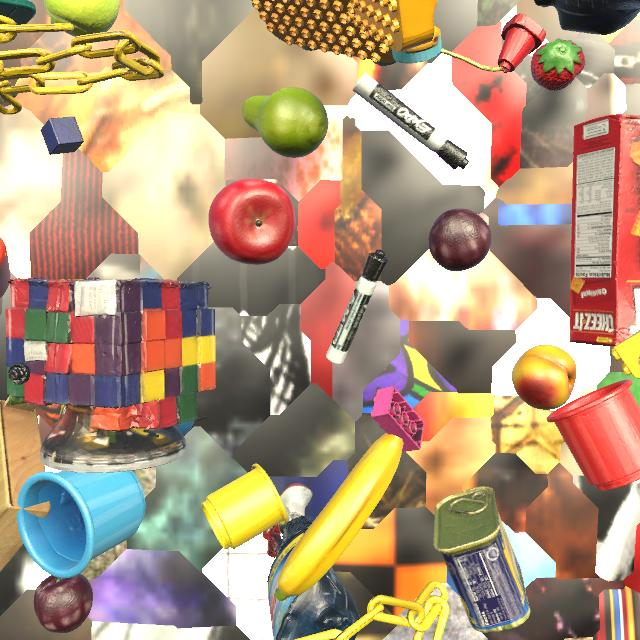ycb_003_cracker_box: (569, 114, 640, 347)
ycb_010_potted_meat_can: (433, 486, 530, 633)
ycb_011_banana: (275, 433, 403, 601)
ycb_012_strawberry: (531, 38, 585, 91)
ycb_013_apple: (208, 179, 295, 265)
ycb_015_peach: (512, 345, 577, 410)
ycb_016_pear: (242, 87, 328, 158)
ycb_018_plum: (428, 208, 492, 271), (34, 574, 93, 633)
